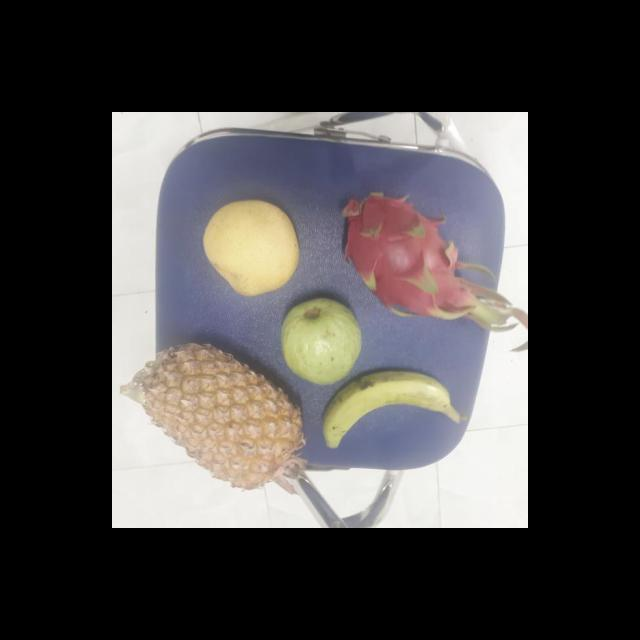banana: (315, 370, 441, 444)
guava: (279, 298, 362, 384)
pear: (200, 198, 304, 296)
pineapple: (141, 342, 303, 484)
pitaya: (332, 192, 469, 318)
